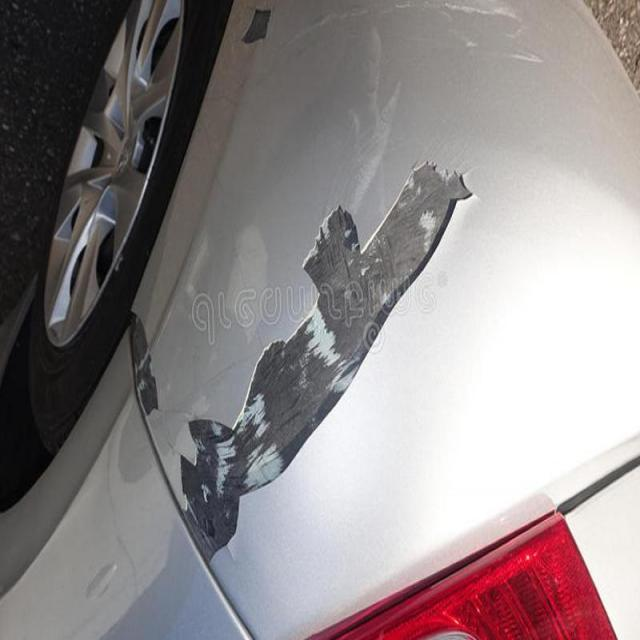scratch: (103, 138, 490, 606), (223, 4, 280, 67)
